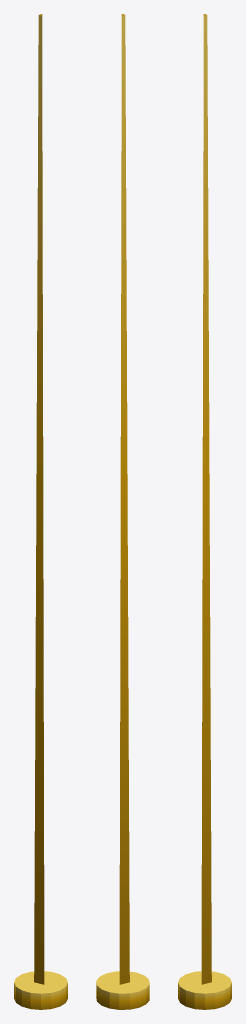
Rendered from Objetivo_Halo.fbx.
3 renders of one model, left to right at view 1: azimuth 90°, elevation 25°; view 2: azimuth 150°, elevation 25°; view 3: azimuth 270°, elevation 25°, orthographic.
Visible parts, largest first — view 1: Cylinder.001, Cylinder; view 2: Cylinder.001, Cylinder; view 3: Cylinder.001, Cylinder.
Boxes of the visible parts, x1=… form: Cylinder.001: x1=34, y1=14, x2=44, y2=984; Cylinder: x1=14, y1=971, x2=67, y2=1009; Cylinder.001: x1=119, y1=14, x2=129, y2=984; Cylinder: x1=96, y1=971, x2=149, y2=1009; Cylinder.001: x1=201, y1=14, x2=211, y2=984; Cylinder: x1=178, y1=971, x2=231, y2=1009.
Size of the model in its own units: 180 by 3616 by 180.
Materials: 1 (1 with a texture image).
